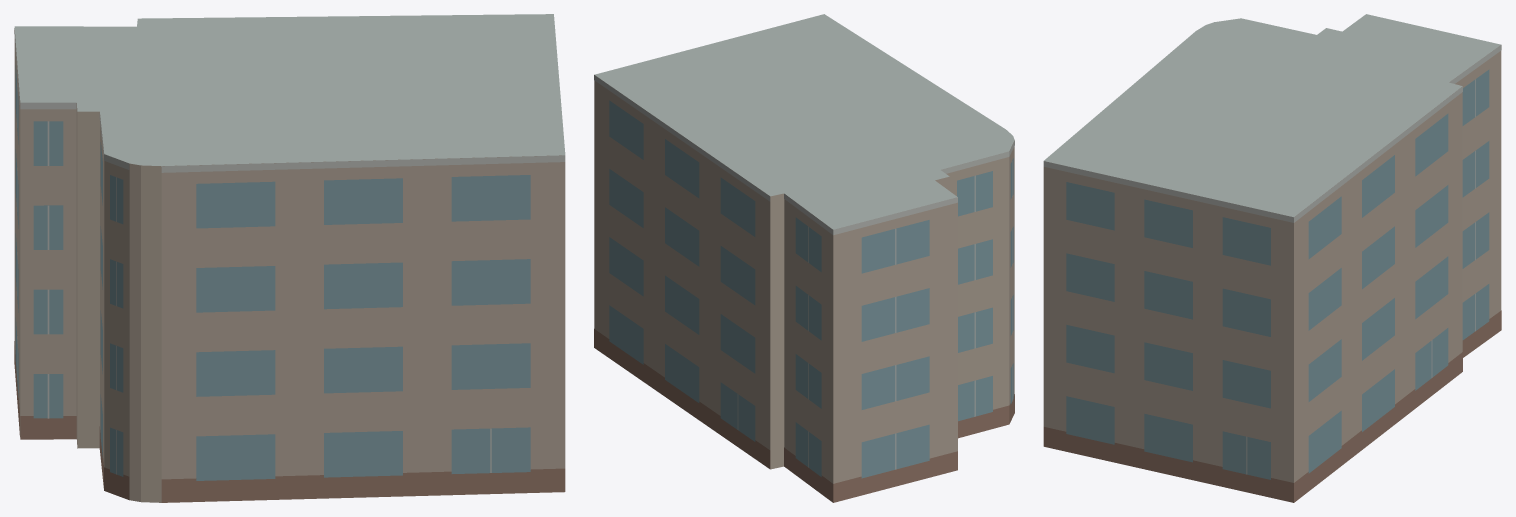
File: survey-upis-32674115.glb
The picture shows the model from 3 angles, left to right: view 1: azimuth 30°, elevation 25°; view 2: azimuth 150°, elevation 25°; view 3: azimuth 270°, elevation 25°; orthographic projection. The views are drawn at different scales.
Visible parts, largest first — view 1: survey-upis-32674115.tmp; view 2: survey-upis-32674115.tmp; view 3: survey-upis-32674115.tmp.
Boxes of the visible parts, x1,y1,x2,y2 form: survey-upis-32674115.tmp: (14, 14, 565, 502); survey-upis-32674115.tmp: (594, 14, 1014, 502); survey-upis-32674115.tmp: (1043, 14, 1501, 502).
Bounding box in the file's own units: 18.63 × 12.2 × 17.73.
